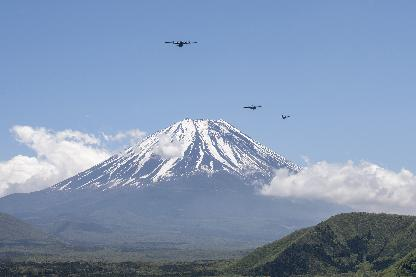Be200: (165, 40, 197, 46), (244, 104, 264, 109), (276, 114, 292, 118)
